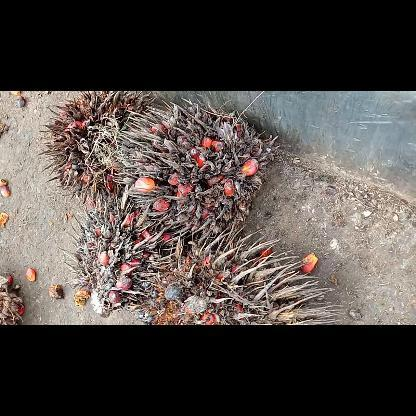Terlalu masak: (112, 100, 282, 240), (127, 220, 347, 324), (60, 186, 188, 319), (36, 90, 160, 212)
